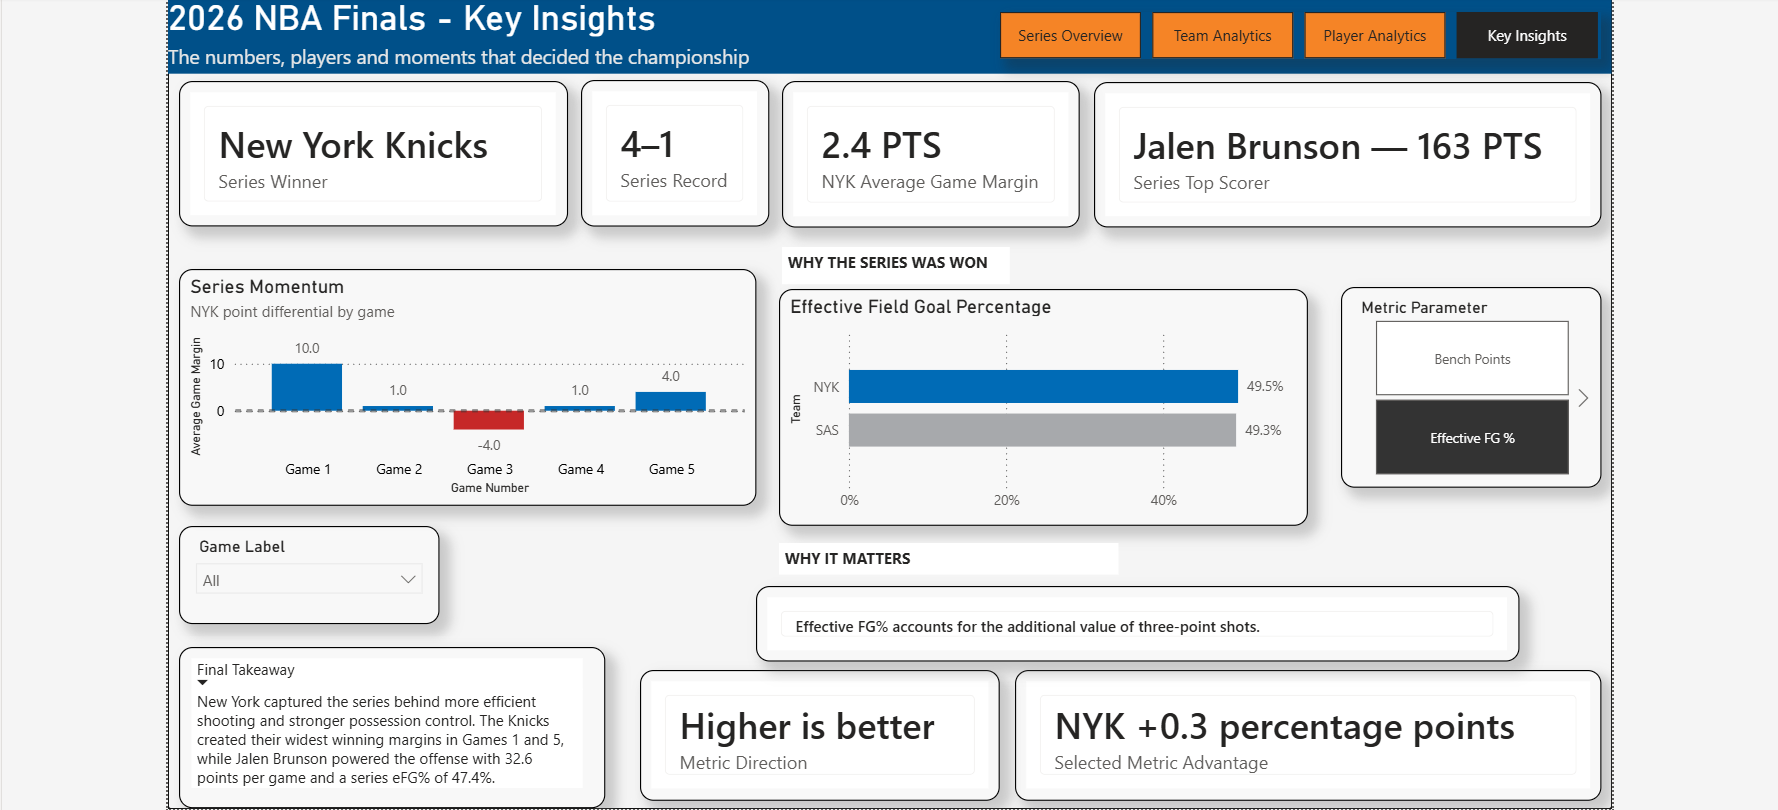

This screenshot's page, from the dashboard's own definition file:
{"tool":"powerbi","page":{"name":"Key Insights","canvas":[1280,720],"ordinal":3},"visuals":[{"type":"shape","title":"2026 NBA Finals - Key Insights","box":[0,0,1279.5,68.3],"z":0},{"type":"slicer","fields":{"Values":["player_analytics.Game Label"]},"box":[9.8,469.1,231,86.9],"z":1000},{"type":"cardVisual","fields":{"Data":["Measure Table.Series Winner Full Name"]},"box":[9.8,74.5,344.9,129.5],"z":2000},{"type":"cardVisual","fields":{"Data":["Measure Table.Series Record"]},"box":[366.2,73.6,166.7,130.3],"z":3000},{"type":"cardVisual","fields":{"Data":["Measure Table.Average Game Margin Display"]},"box":[544.4,74.5,264.2,130.3],"z":4000},{"type":"cardVisual","fields":{"Data":["Measure Table.Top Scorer Display"]},"box":[821.1,75.4,450.4,129.5],"z":5000},{"type":"clusteredColumnChart","title":"Series Momentum","fields":{"Category":["game_analytics.Game Label"],"Y":["Measure Table.Average Game Margin"]},"box":[9.8,241.2,511.6,210.1],"z":6000},{"type":"slicer","fields":{"Values":["Metric Parameter.Metric Parameter"]},"box":[1040.1,257.1,231.1,178.3],"z":7000},{"type":"textbox","box":[544.4,221.7,202,32.8],"z":9000},{"type":"clusteredBarChart","fields":{"Category":["dim_team.TEAM_ABBREVIATION"],"Y":["Measure Table.Average Bench Points"]},"box":[541.8,254.5,469.1,210.1],"z":10000},{"type":"cardVisual","fields":{"Data":["Measure Table.Selected Metric Advantage"]},"box":[751,596.7,520.4,115.5],"z":11000},{"type":"cardVisual","fields":{"Data":["Measure Table.Metric Direction"]},"box":[418.5,596.7,319.3,115.5],"z":12000},{"type":"pageNavigator","box":[737.7,13.3,533.1,41.8],"z":13000},{"type":"cardVisual","title":"WHY IT MATTERS","fields":{"Data":["Measure Table.Selected Metric Explanation"]},"box":[521.4,509,676.6,67.4],"z":14000},{"type":"textbox","box":[544.4,480.6,301.1,28.2],"z":15000},{"type":"tableEx","fields":{"Values":["Measure Table.Final Takeaway"]},"box":[10,576.8,377.5,142.8],"z":15002}]}

Visuals, with their boxes on the page's 1280x720 design canvas (x1, y1, x2, y2). These are canvas units, not pixel positions in the 1778x810 screenshot, which may show the page scaled, cropped or inside an application window:
"2026 NBA Finals - Key Insights" shape: pyautogui.locateOnScreen(0, 0, 1280, 68)
slicer - player_analytics.Game Label: pyautogui.locateOnScreen(10, 469, 241, 556)
cardVisual - Measure Table.Series Winner Full Name: pyautogui.locateOnScreen(10, 74, 355, 204)
cardVisual - Measure Table.Series Record: pyautogui.locateOnScreen(366, 74, 533, 204)
cardVisual - Measure Table.Average Game Margin Display: pyautogui.locateOnScreen(544, 74, 809, 205)
cardVisual - Measure Table.Top Scorer Display: pyautogui.locateOnScreen(821, 75, 1272, 205)
"Series Momentum" clusteredColumnChart: pyautogui.locateOnScreen(10, 241, 521, 451)
slicer - Metric Parameter.Metric Parameter: pyautogui.locateOnScreen(1040, 257, 1271, 435)
textbox: pyautogui.locateOnScreen(544, 222, 746, 254)
clusteredBarChart - dim_team.TEAM_ABBREVIATION x Measure Table.Average Bench Points: pyautogui.locateOnScreen(542, 254, 1011, 465)
cardVisual - Measure Table.Selected Metric Advantage: pyautogui.locateOnScreen(751, 597, 1271, 712)
cardVisual - Measure Table.Metric Direction: pyautogui.locateOnScreen(418, 597, 738, 712)
pageNavigator: pyautogui.locateOnScreen(738, 13, 1271, 55)
"WHY IT MATTERS" cardVisual: pyautogui.locateOnScreen(521, 509, 1198, 576)
textbox: pyautogui.locateOnScreen(544, 481, 846, 509)
tableEx - Measure Table.Final Takeaway: pyautogui.locateOnScreen(10, 577, 388, 720)
